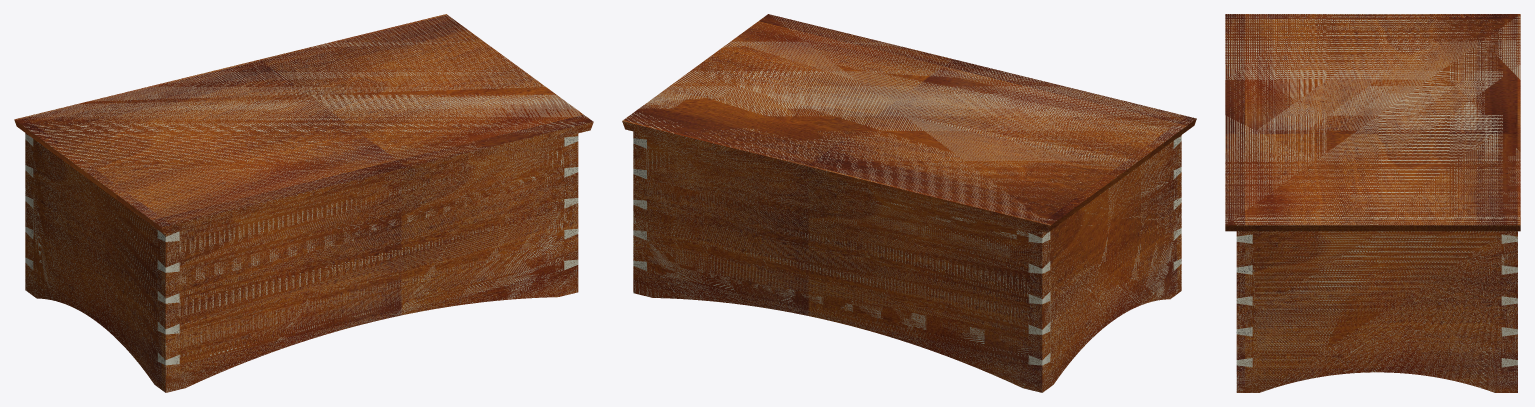
3 renders of one model, left to right at view 1: azimuth 30°, elevation 25°; view 2: azimuth 150°, elevation 25°; view 3: azimuth 270°, elevation 25°, orthographic.
Parts seen in each view (by area): view 1: mesh1_mesh1-geometry; view 2: mesh1_mesh1-geometry; view 3: mesh1_mesh1-geometry.
Part boxes in pixels (x1,y1,x2,y2): mesh1_mesh1-geometry: [14, 14, 593, 392]; mesh1_mesh1-geometry: [622, 14, 1196, 392]; mesh1_mesh1-geometry: [1225, 14, 1520, 392].
Bounding box in the file's own units: 0.8181 × 0.3114 × 0.4834.
